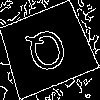Q: (22, 23, 74, 84)
